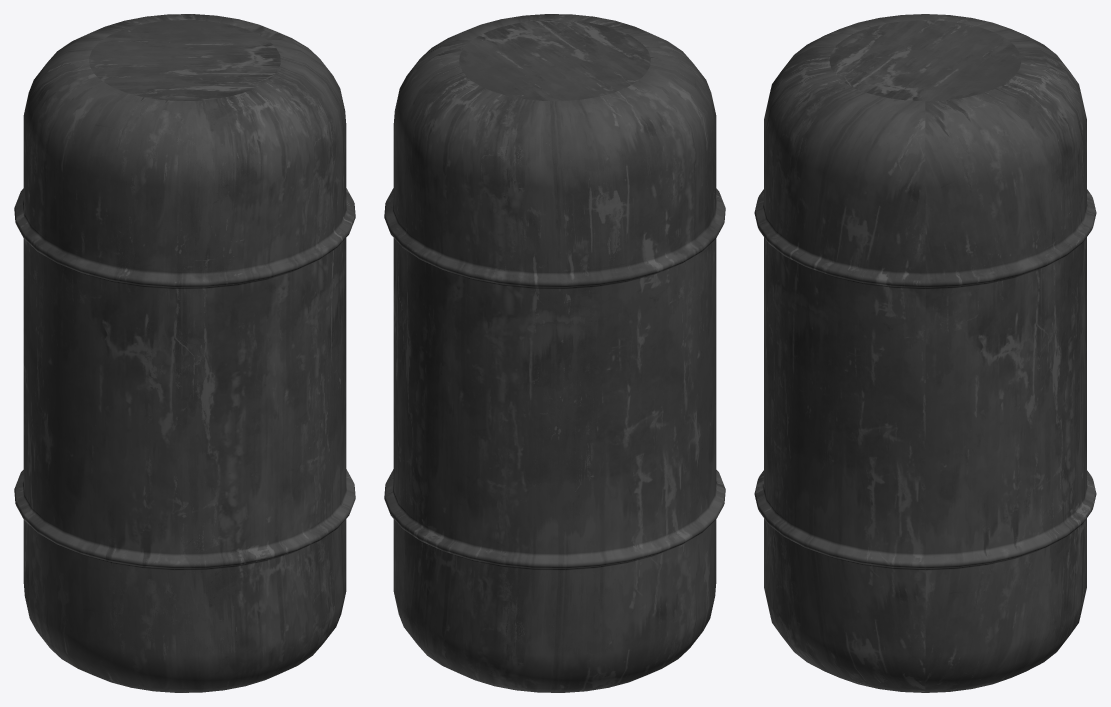
File: barrel_002.fbx
3 views of the same model, side by side, from view 1: azimuth 30°, elevation 25°; view 2: azimuth 150°, elevation 25°; view 3: azimuth 270°, elevation 25° (orthographic).
Visible parts, largest first — view 1: barrel_002; view 2: barrel_002; view 3: barrel_002.
Part boxes in pixels (box(x1,y1,x2,y2)): barrel_002: box(14, 14, 355, 692); barrel_002: box(384, 14, 725, 692); barrel_002: box(754, 14, 1096, 692).
Size of the model in its own units: 2541 by 2541 by 4800.
